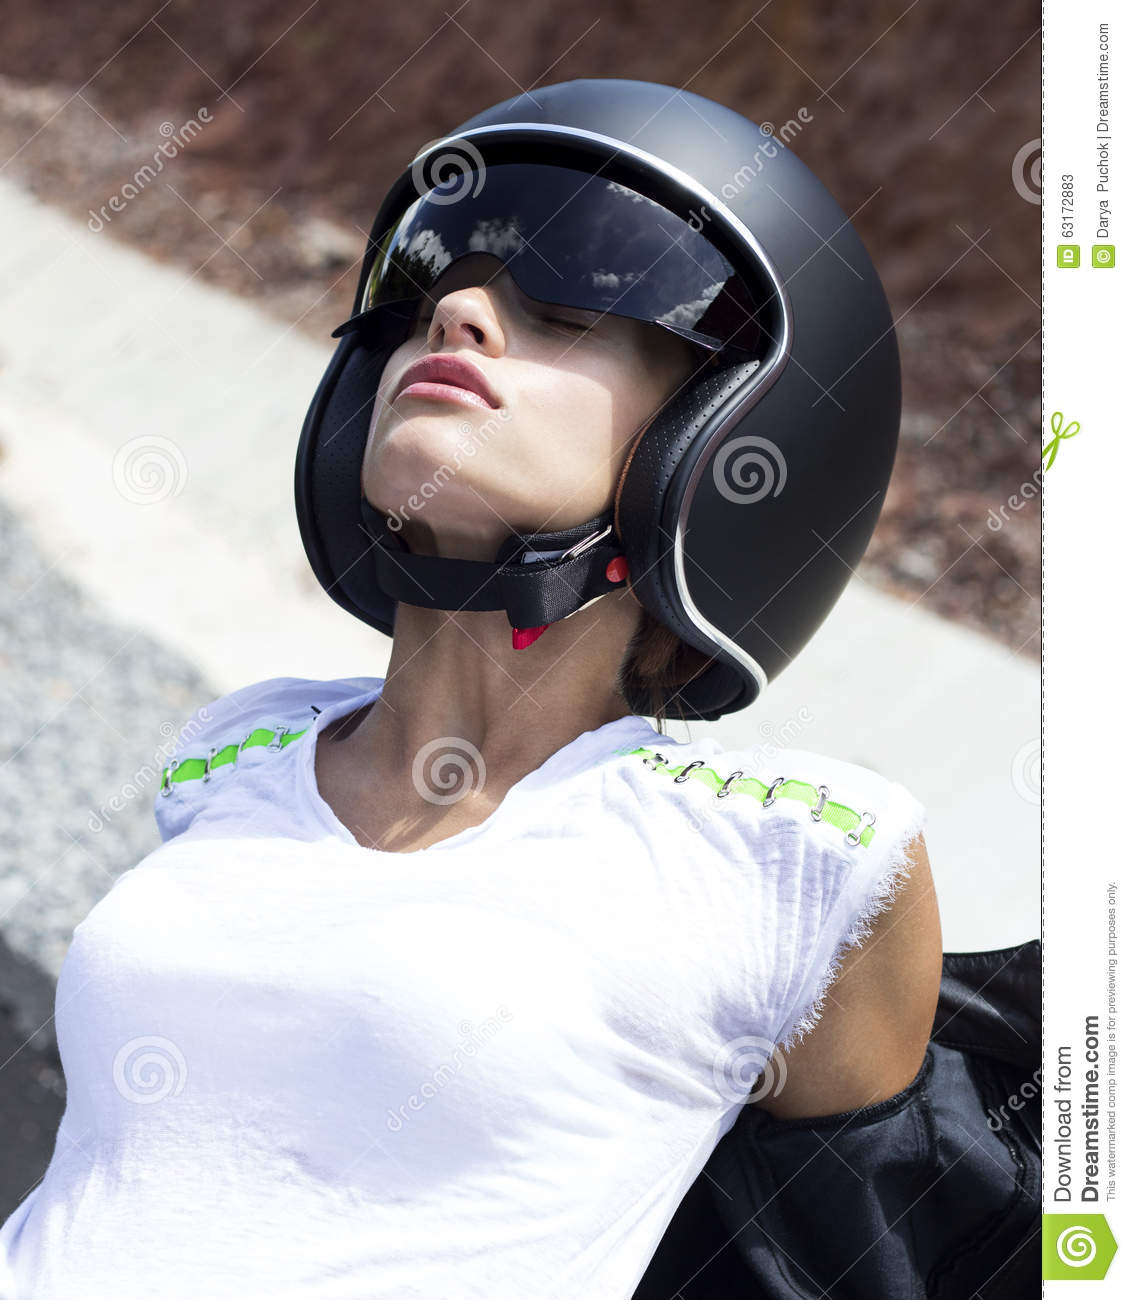helmet: (339, 109, 887, 635)
